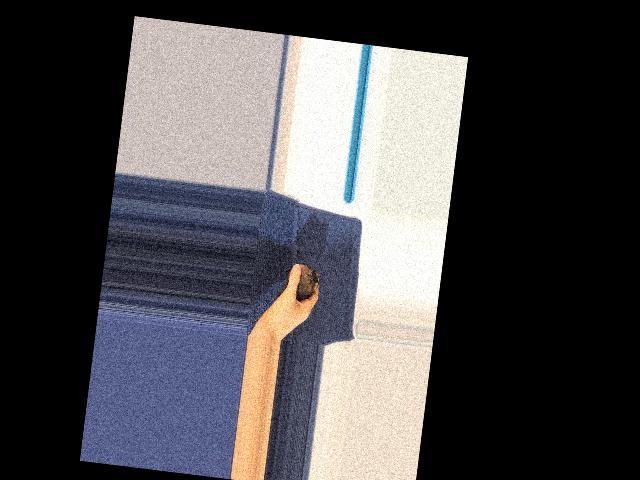beet: (272, 260, 320, 302)
